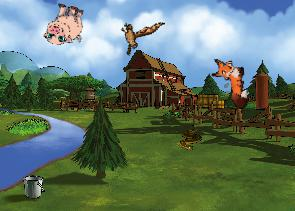eagle: (110, 5, 165, 63)
fox: (210, 56, 249, 110)
pig: (41, 0, 88, 49)
